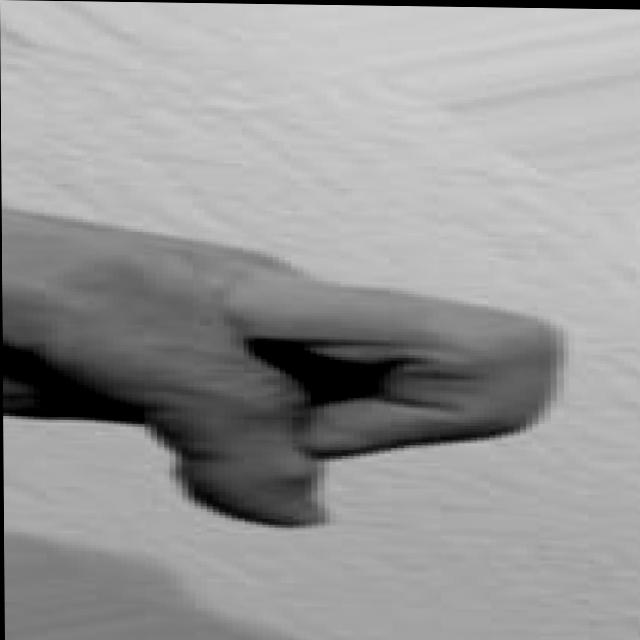P: (1, 195, 564, 543)
